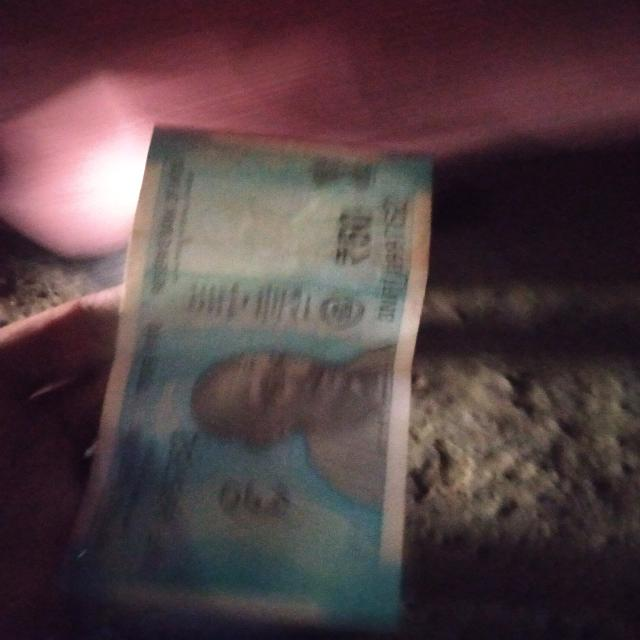50rs: (86, 122, 438, 632)
